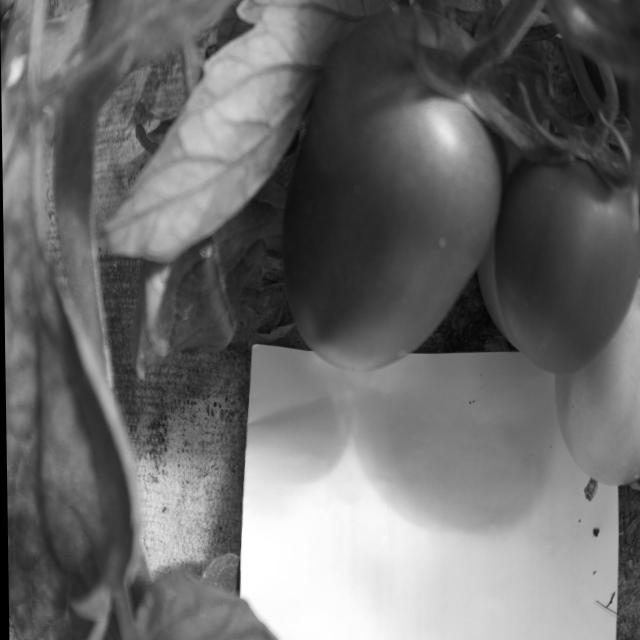kirmizi: (270, 8, 632, 370)
